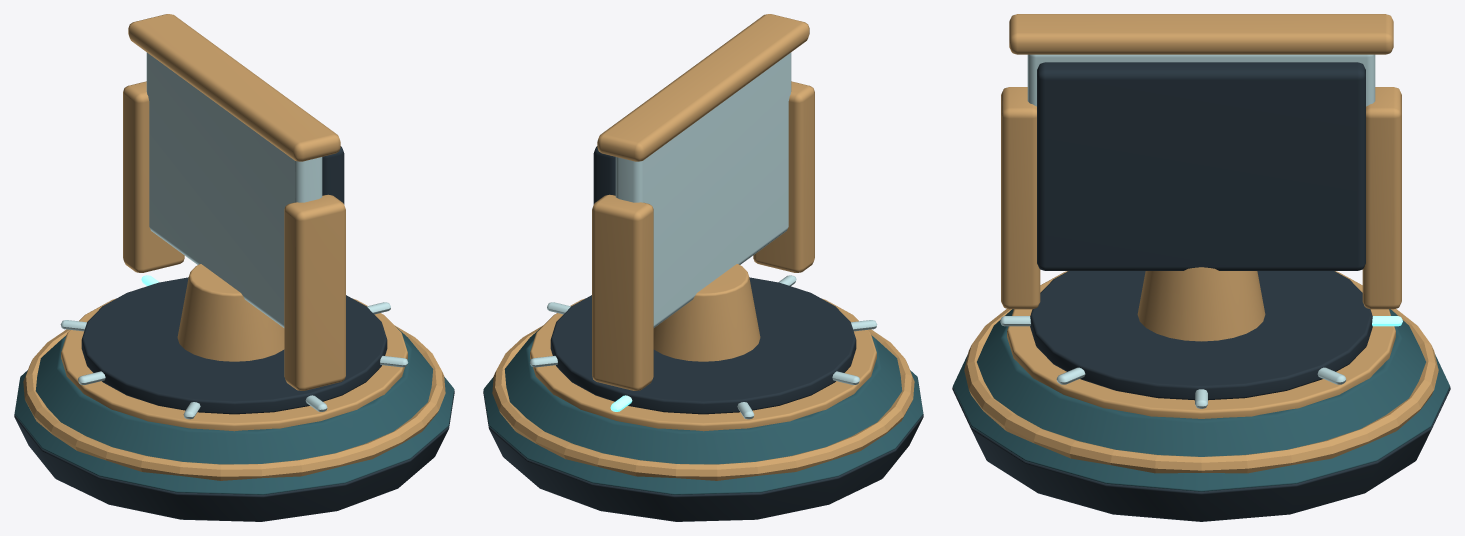
File: mirror.glb
3 views of the same model, side by side, from view 1: azimuth 30°, elevation 25°; view 2: azimuth 150°, elevation 25°; view 3: azimuth 270°, elevation 25° (orthographic). The views are drawn at different scales.
Visible parts, largest first — view 1: mirror; view 2: mirror; view 3: mirror.
Boxes of the visible parts, x1,y1,x2,y2 form: mirror: [14, 14, 454, 521]; mirror: [483, 14, 923, 521]; mirror: [952, 14, 1450, 521].
Bounding box in the file's own units: 1.08 × 0.956 × 1.08.
